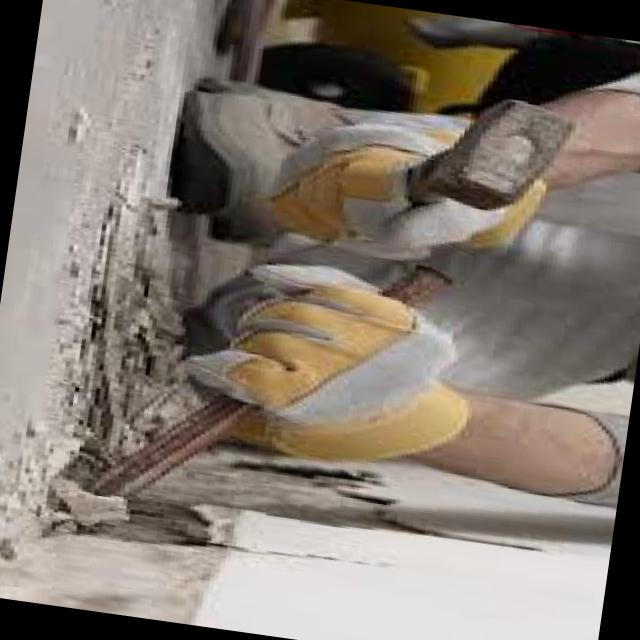gloved: (165, 248, 489, 482), (266, 86, 556, 274)
